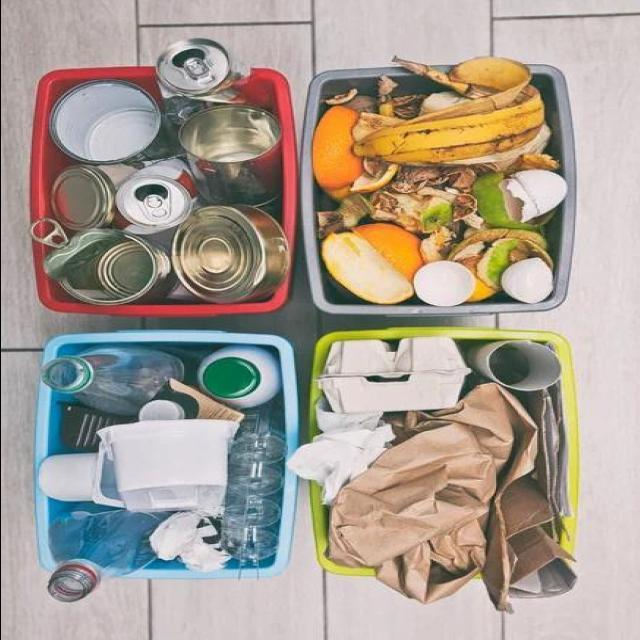Garbage: (289, 329, 575, 611), (301, 54, 573, 316), (35, 334, 283, 600), (48, 40, 290, 304), (44, 229, 177, 305)
Glass_bottle: (41, 346, 183, 415)
Metal: (33, 39, 288, 304)
Plastic: (38, 419, 237, 515), (61, 404, 135, 452)
Plastic_bottle: (47, 510, 166, 602), (220, 408, 286, 561), (196, 345, 280, 408)
contaminated_waste: (327, 384, 575, 611), (318, 338, 468, 414), (196, 345, 280, 408)
